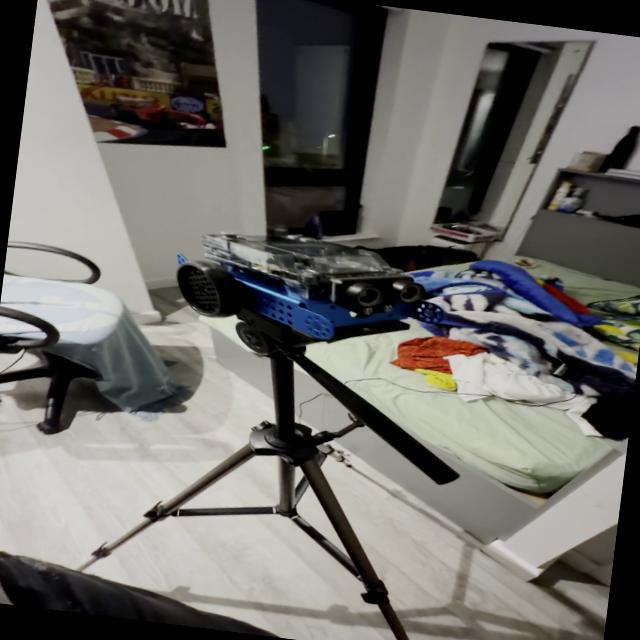mbot-detection: (153, 215, 460, 358)
